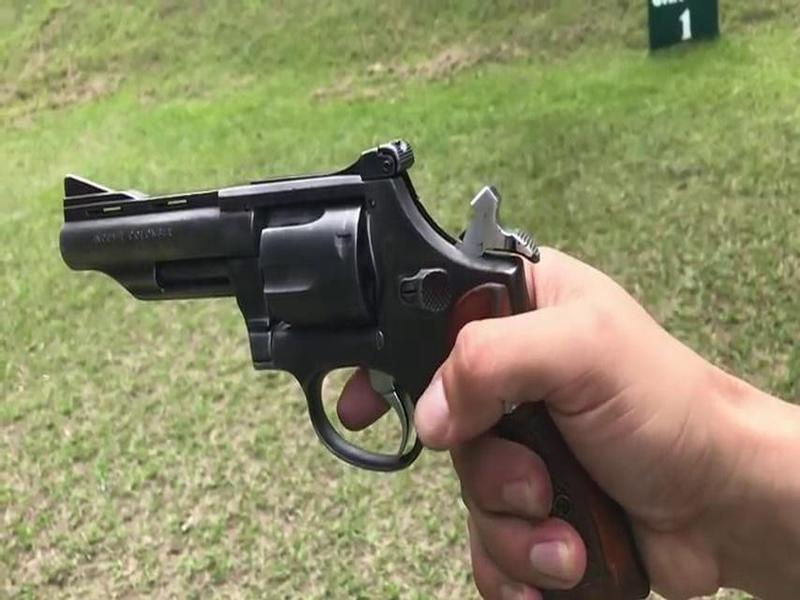Revolver: (27, 145, 641, 573)
